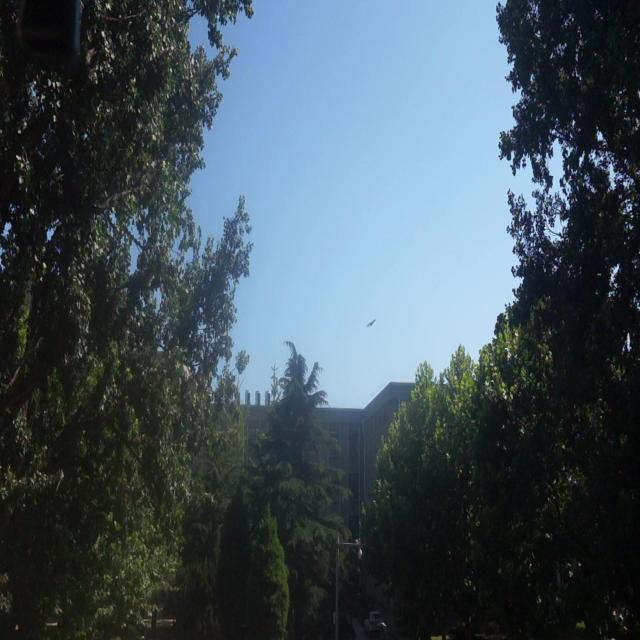drone: (363, 316, 378, 331)
